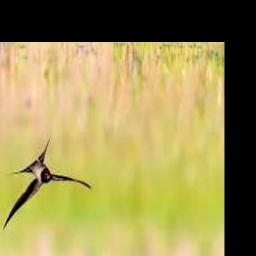Swallow: (4, 142, 92, 229)
